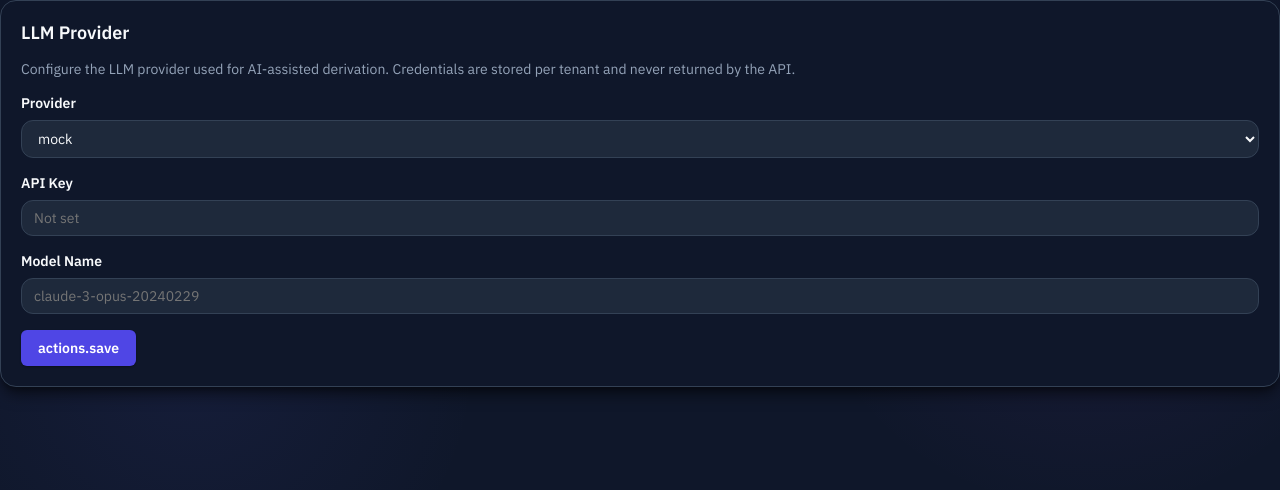
Test case: LlmSettingsSection (REQ-L2-LLM-001) › shows the base_url input only for the ollama provider
Step 1. Select "ollama" in the dropdown with test id "llm-provider-select" → (640, 139), box [21, 120, 1259, 158]
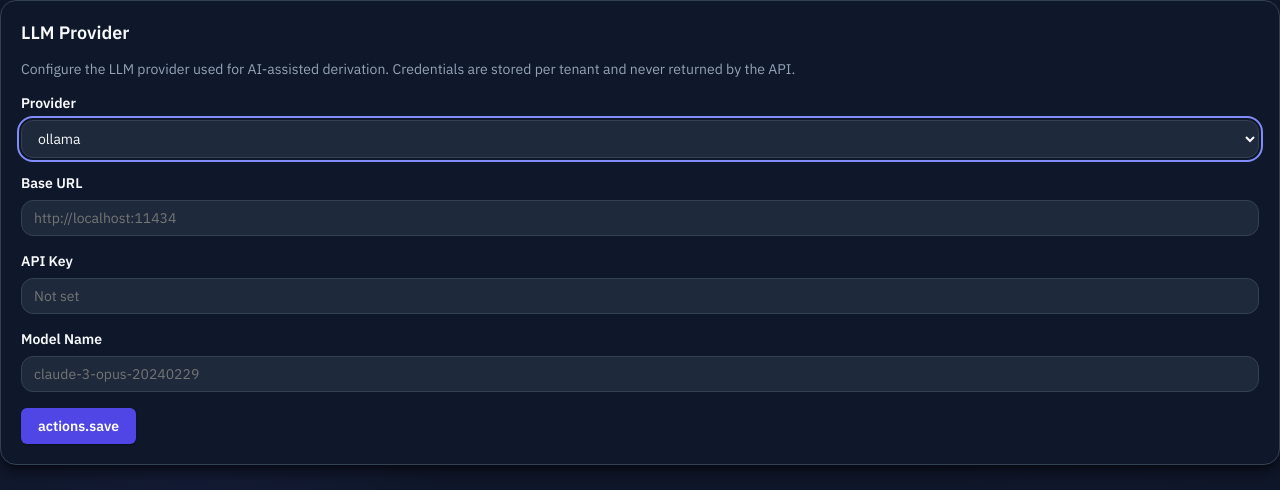
expect the field with test id "llm-base-url-input" is shown: met, box [21, 200, 1259, 236]
